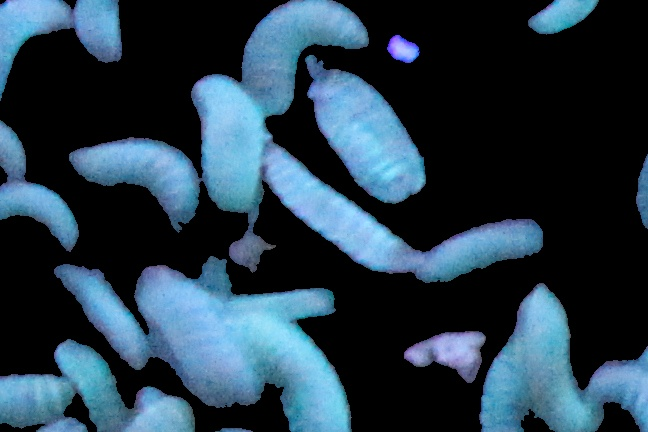larvae: (254, 148, 425, 274), (137, 268, 262, 403), (310, 65, 427, 196), (227, 314, 352, 432), (244, 1, 369, 118), (71, 138, 199, 235), (54, 260, 159, 372), (522, 292, 602, 432), (191, 70, 267, 214), (422, 216, 554, 289), (1, 1, 68, 103), (57, 343, 133, 432), (480, 333, 538, 432), (1, 181, 81, 247), (71, 1, 135, 62), (1, 372, 72, 426), (522, 1, 608, 39)
